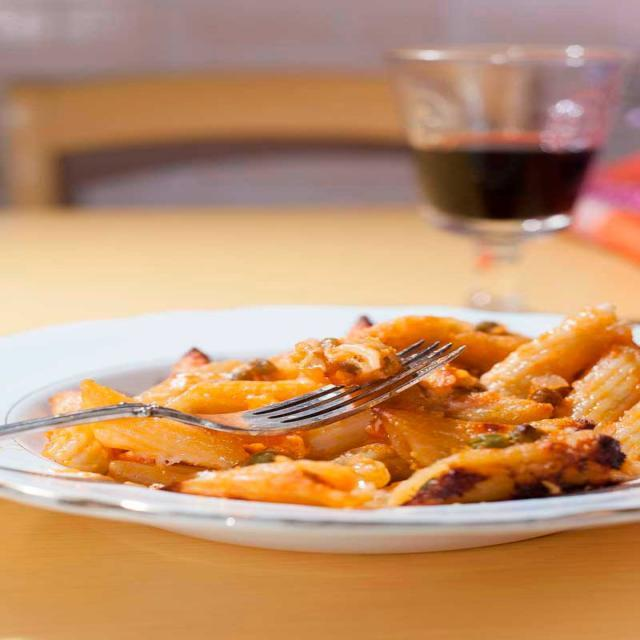Pasta al ragu: (25, 303, 640, 532)
